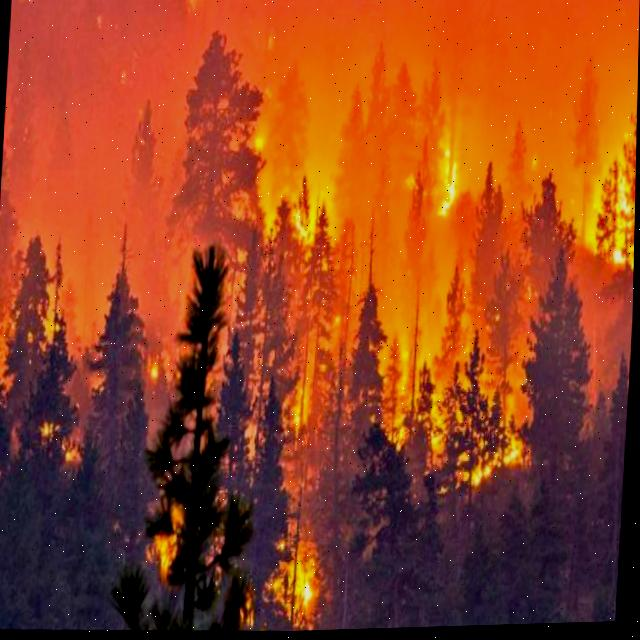fire: (597, 154, 637, 276), (430, 148, 464, 227), (287, 556, 327, 622), (300, 181, 334, 250)
smoke: (0, 0, 640, 414)
